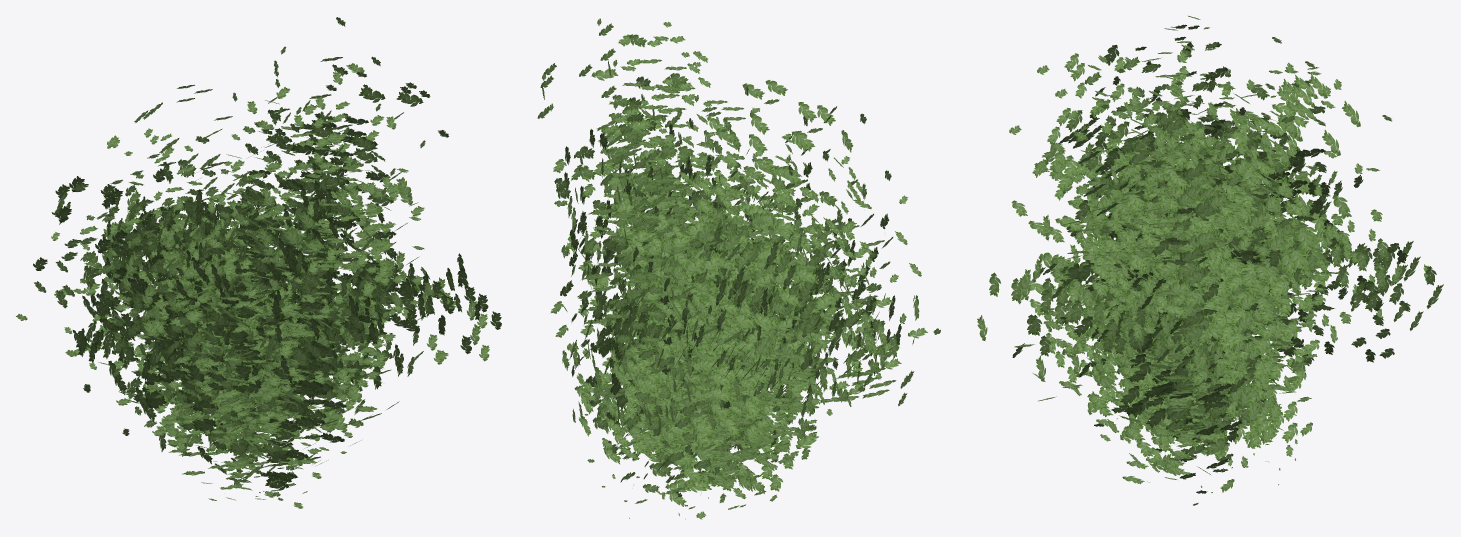
File: Shrubs.fbx
3 renders of one model, left to right at view 1: azimuth 30°, elevation 25°; view 2: azimuth 150°, elevation 25°; view 3: azimuth 270°, elevation 25°, orthographic. The views are drawn at different scales.
Parts seen in each view (by area): view 1: Shrubs; view 2: Shrubs; view 3: Shrubs.
Part boxes in pixels (box(x1,y1,x2,y2)): Shrubs: box(16, 17, 501, 508); Shrubs: box(537, 18, 940, 519); Shrubs: box(977, 16, 1443, 505).
Bounding box in the file's own units: 110 × 130 × 108.
